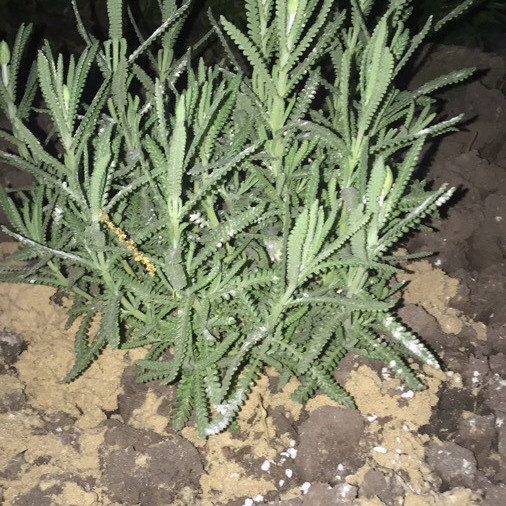obstacle: (28, 27, 440, 439)
